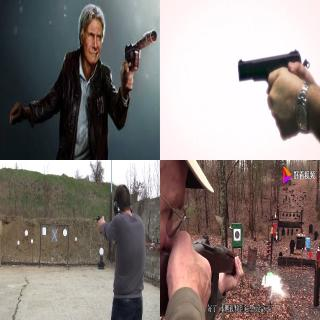gun: (168, 236, 252, 316), (235, 48, 311, 123), (118, 22, 158, 100), (90, 213, 104, 235)
